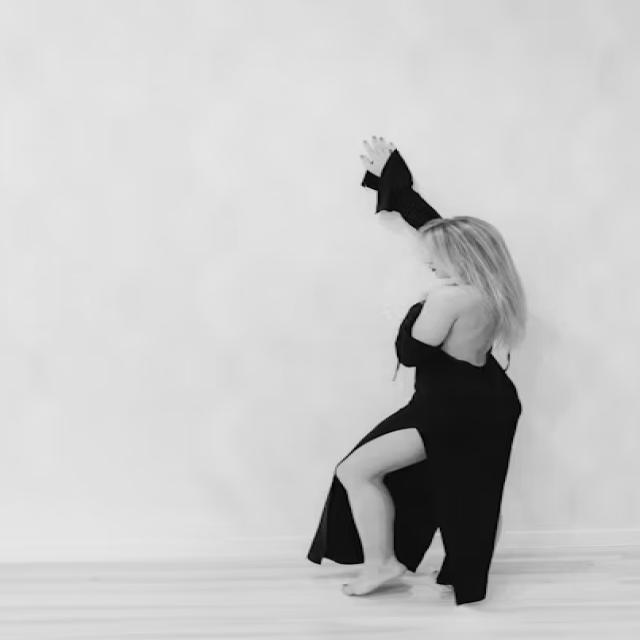Edited images: (291, 121, 563, 627)
